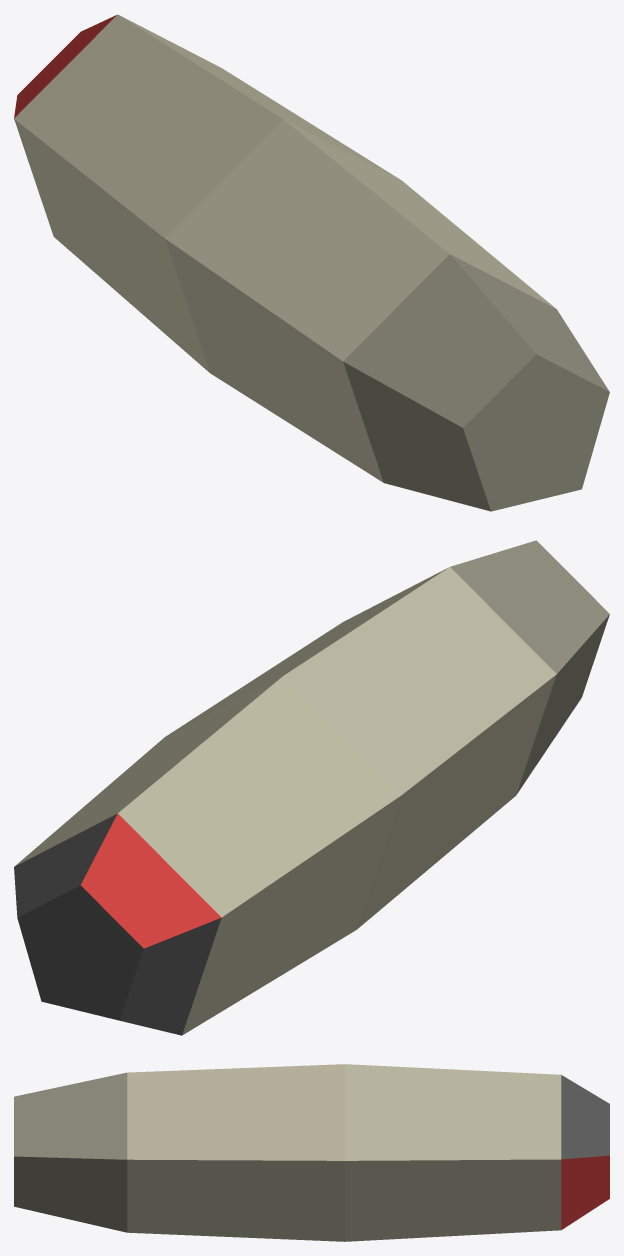
Rendered from joint.fbx.
3 views of the same model, one above another, from view 1: azimuth 30°, elevation 25°; view 2: azimuth 150°, elevation 25°; view 3: azimuth 270°, elevation 25° (orthographic). The views are drawn at different scales.
Visible parts, largest first — view 1: Cylinder; view 2: Cylinder; view 3: Cylinder.
Part boxes in pixels (bbox=[...]): Cylinder: bbox=[14, 14, 609, 511]; Cylinder: bbox=[14, 540, 609, 1035]; Cylinder: bbox=[14, 1064, 609, 1241].
Bounding box in the file's own units: 105 × 100 × 351.
